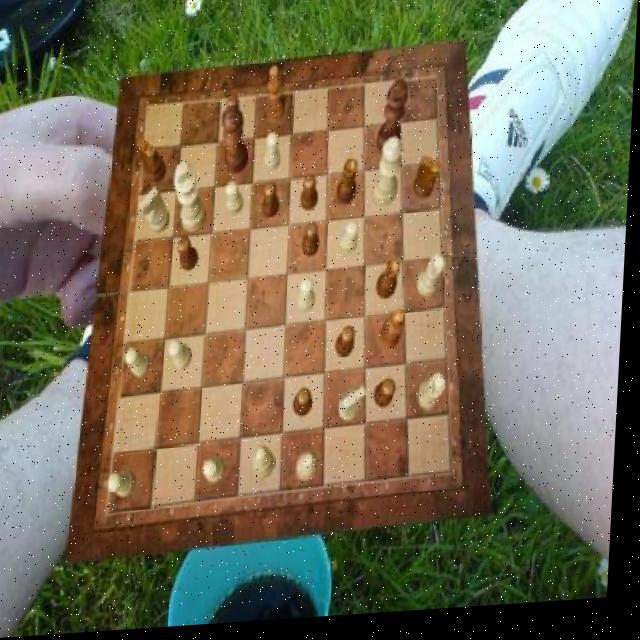bishop: (268, 69, 290, 128), (383, 315, 410, 356)
black-bishop: (379, 84, 409, 162)
black-king: (138, 140, 171, 187), (415, 161, 444, 205)
black-knight: (179, 238, 201, 274), (228, 98, 247, 137), (264, 185, 283, 223), (378, 385, 401, 415), (303, 179, 322, 215), (340, 331, 360, 363), (306, 226, 324, 261), (298, 393, 318, 422)
black-pawn: (222, 108, 254, 178)
black-queen: (338, 162, 360, 209), (381, 264, 405, 305)
black-rook: (258, 449, 282, 484), (301, 454, 325, 486)
white-bishop: (174, 164, 211, 238)
white-king: (141, 189, 173, 237), (342, 390, 370, 426)
white-knight: (129, 348, 156, 380), (172, 341, 197, 373), (113, 473, 142, 500), (266, 135, 285, 175), (226, 184, 246, 219), (300, 281, 319, 317), (342, 227, 361, 260), (207, 459, 229, 486)
white-pawn: (375, 141, 407, 212)
white-queen: (419, 261, 448, 305), (422, 380, 451, 417)
